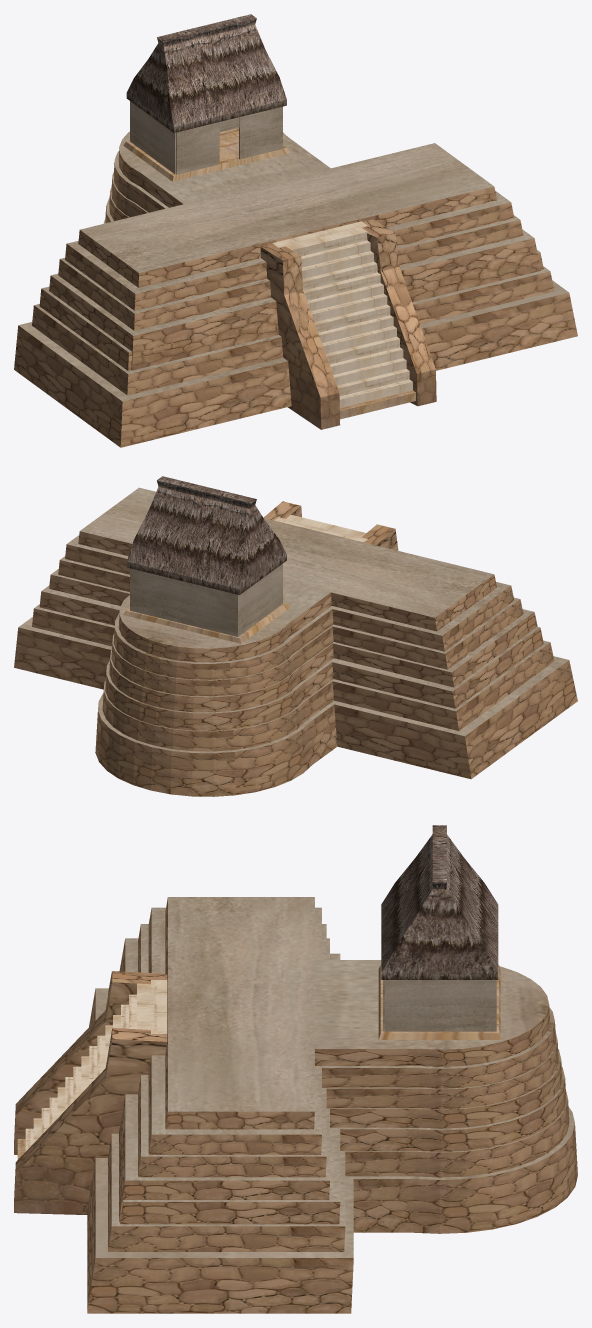
File: tara_wonder.dae
3 renders of one model, top to bottom at view 1: azimuth 30°, elevation 25°; view 2: azimuth 150°, elevation 25°; view 3: azimuth 270°, elevation 25°, orthographic. The views are drawn at different scales.
Parts seen in each view (by area): view 1: wonder; view 2: wonder; view 3: wonder.
Boxes of the visible parts, x1=… form: wonder: x1=14, y1=14, x2=577, y2=447; wonder: x1=14, y1=476, x2=577, y2=796; wonder: x1=14, y1=825, x2=577, y2=1313.
Size of the model in its own units: 41.74 by 36.04 by 23.2.
